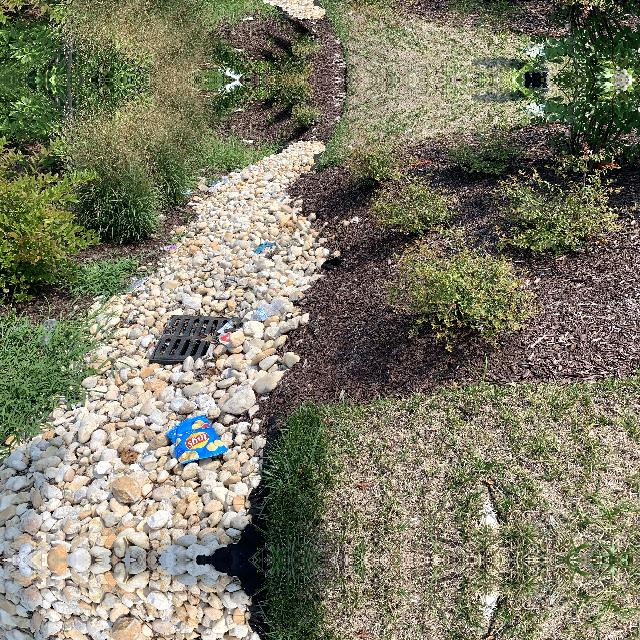Coffee Cup: (38, 318, 62, 347)
Paper: (218, 322, 236, 348), (158, 243, 176, 250), (332, 92, 344, 98), (332, 62, 344, 68)
Plastic: (162, 415, 228, 463), (248, 297, 284, 323), (408, 160, 432, 166)
